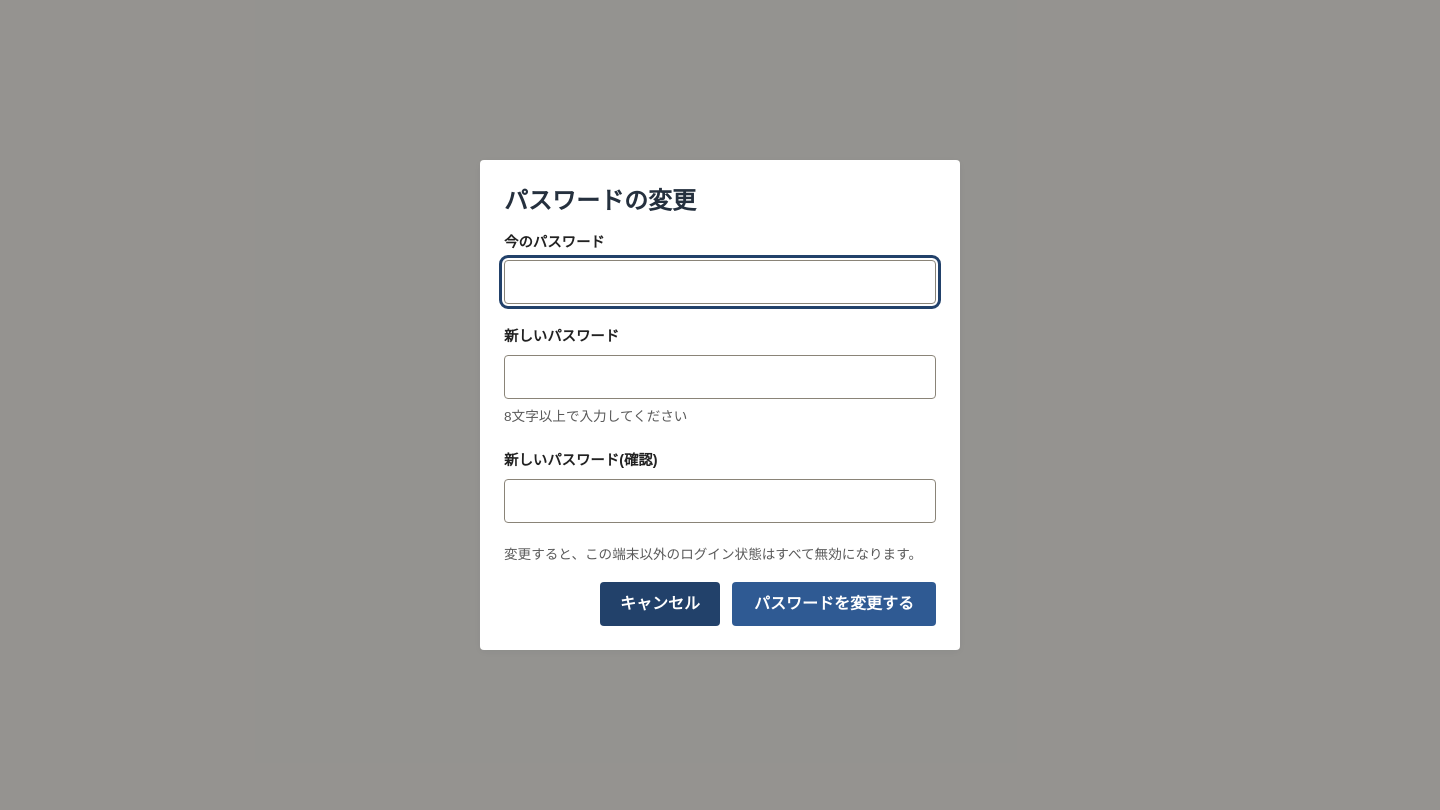
ChangePasswordDialog › 入力して送信すると、他の端末のログイン状態を無効にする指定(revokeOtherSessions)付きで変更し、完了の案内を表示する
The image size is (1440, 810).
Type "old-password1" into the password field labelled "今のパスワード".
click(720, 282); type("old-password1")  # box [504, 260, 936, 304]
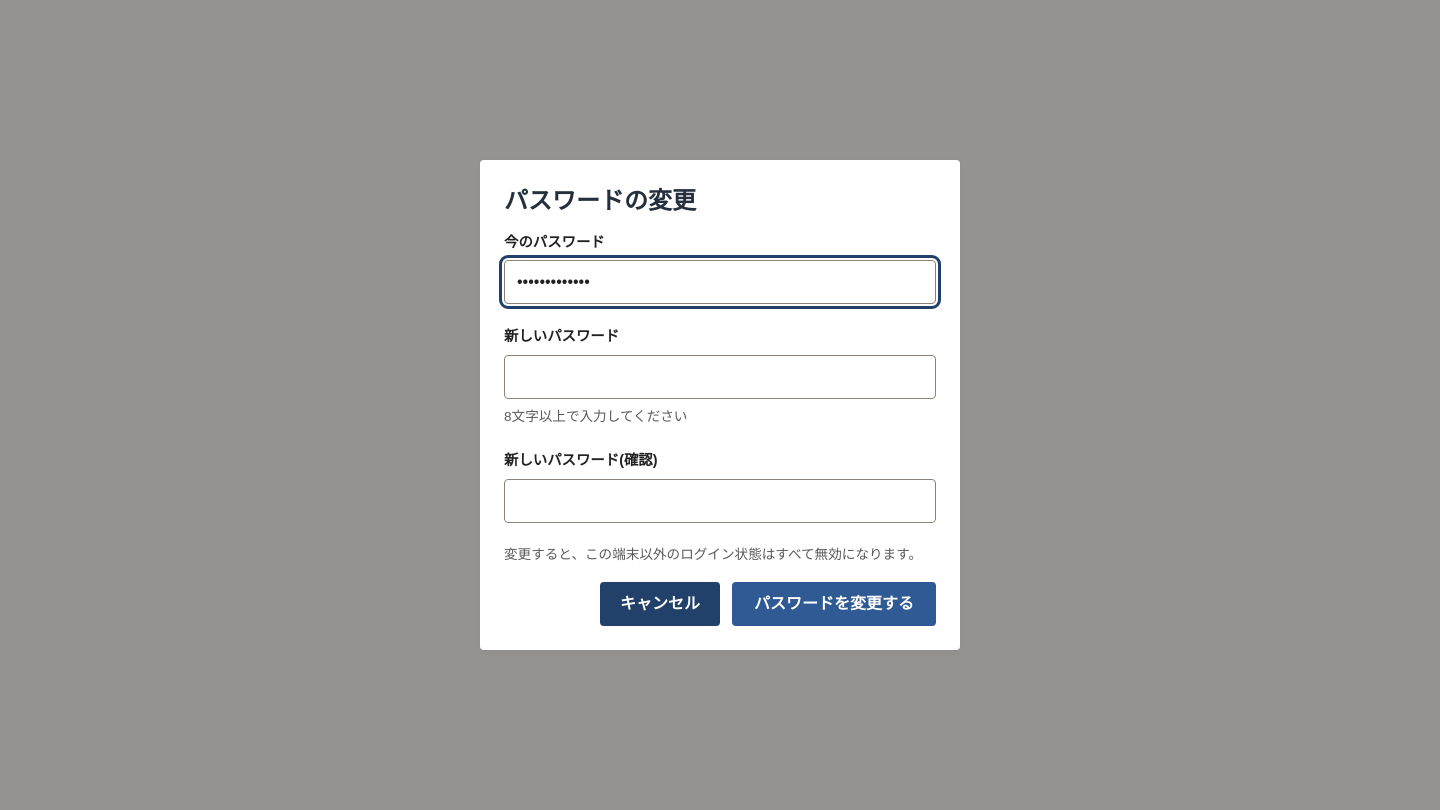
Type "new-password1" into the password field labelled "新しいパスワード".
click(720, 377); type("new-password1")  # box [504, 355, 936, 399]
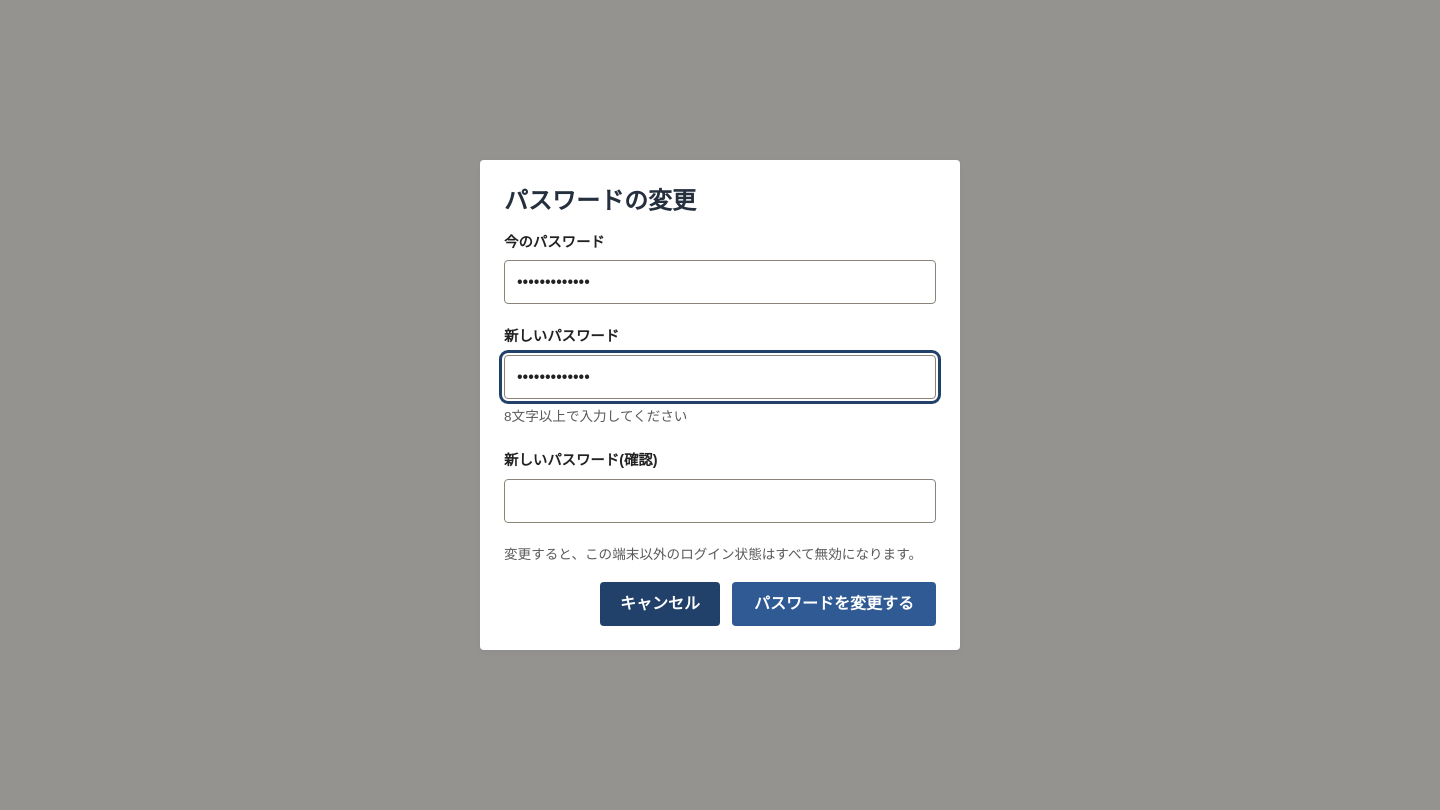
Type "new-password1" into the password field labelled "新しいパスワード(確認)".
click(720, 500); type("new-password1")  # box [504, 478, 936, 522]
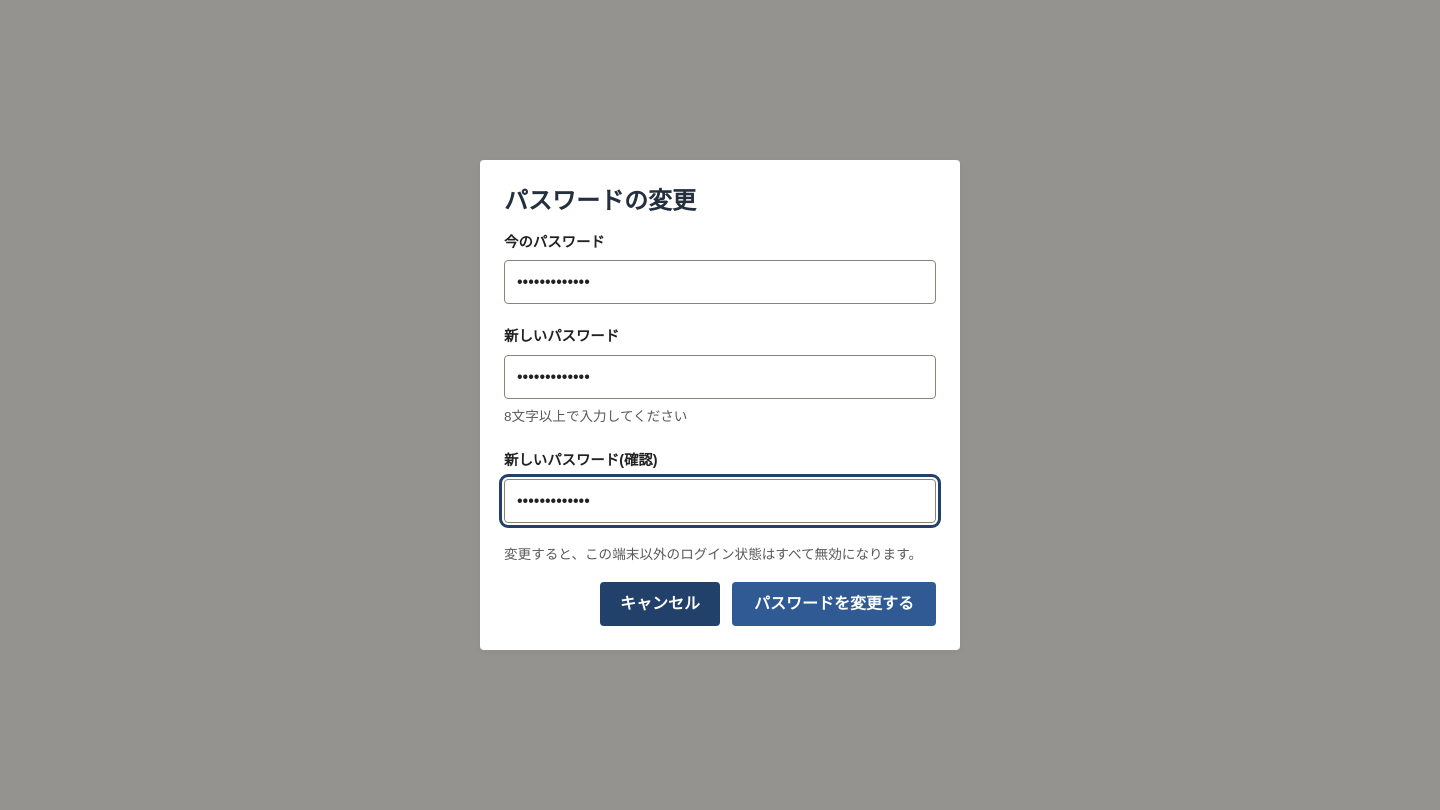
Click the button "パスワードを変更する".
click(834, 604)  # box [732, 582, 936, 626]
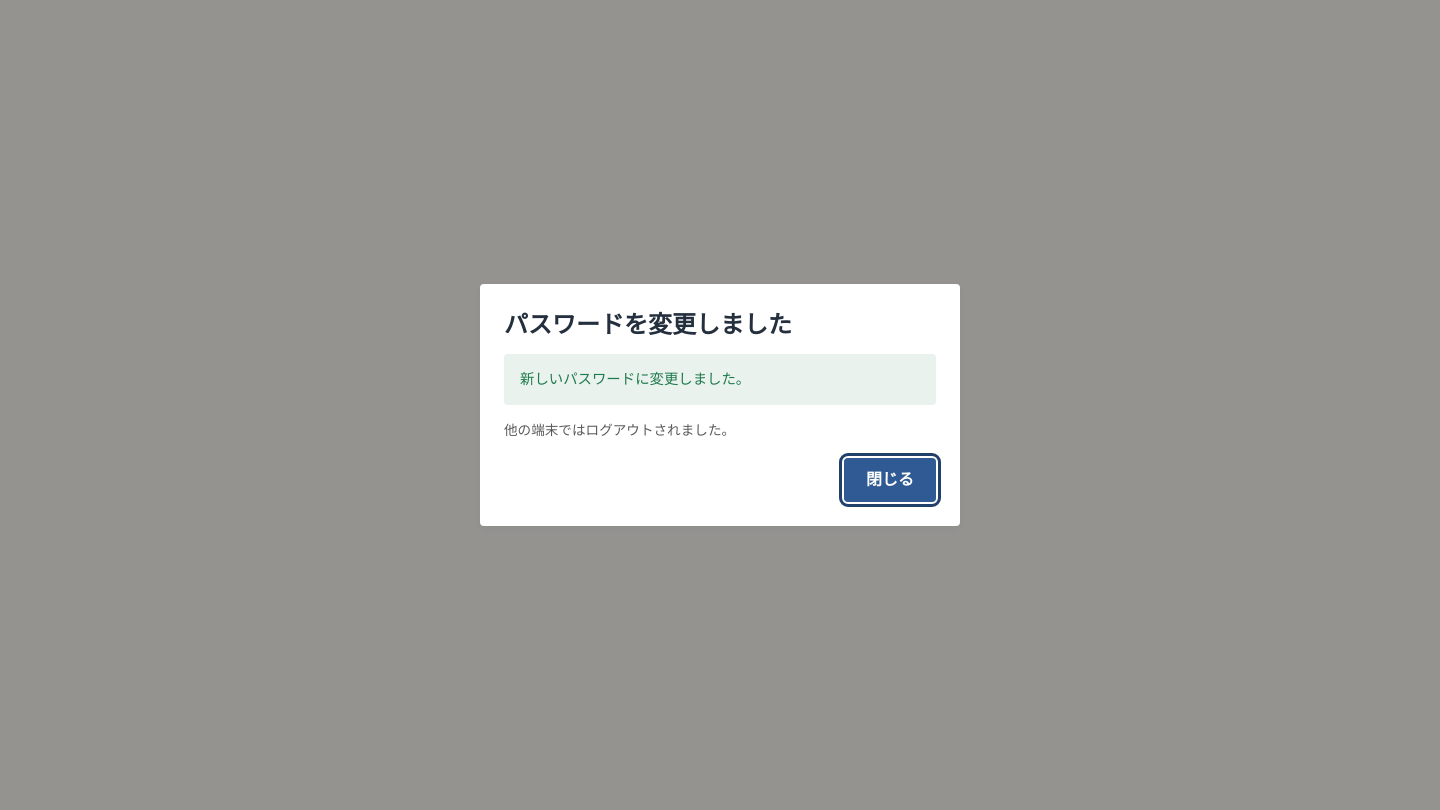
Check: the dialog "パスワードを変更しました" is shown, box [480, 284, 960, 526]
Check: the text "他の端末ではログアウトされました。" is shown, box [504, 423, 735, 438]
